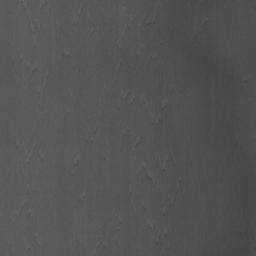Silk spot: (142, 157, 172, 184), (24, 139, 43, 167), (12, 56, 38, 74), (149, 225, 167, 249), (152, 102, 168, 128)
